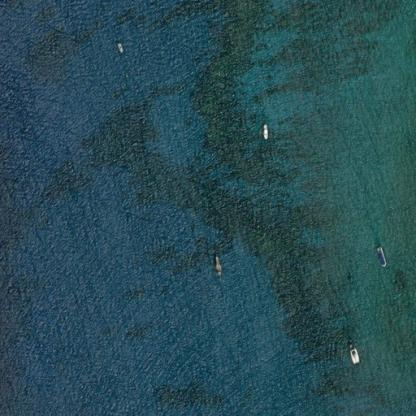ship: (338, 336, 366, 370), (370, 240, 391, 270), (206, 252, 229, 279), (257, 119, 273, 144), (110, 38, 127, 58)
